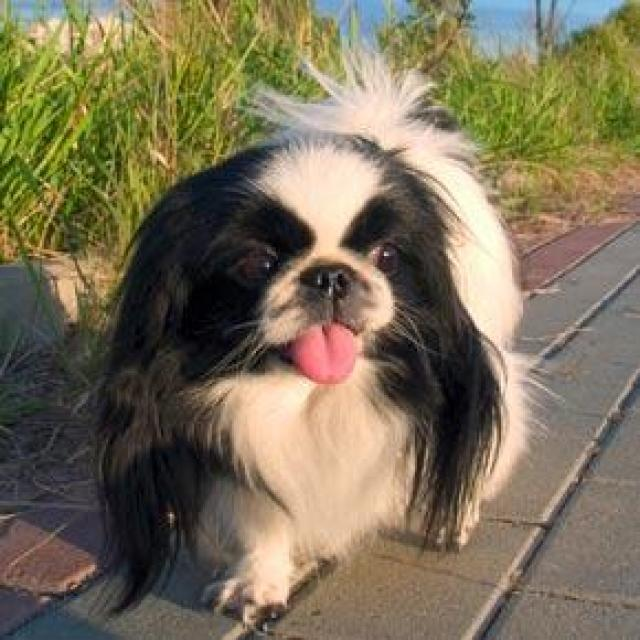husky: (95, 44, 527, 627)
